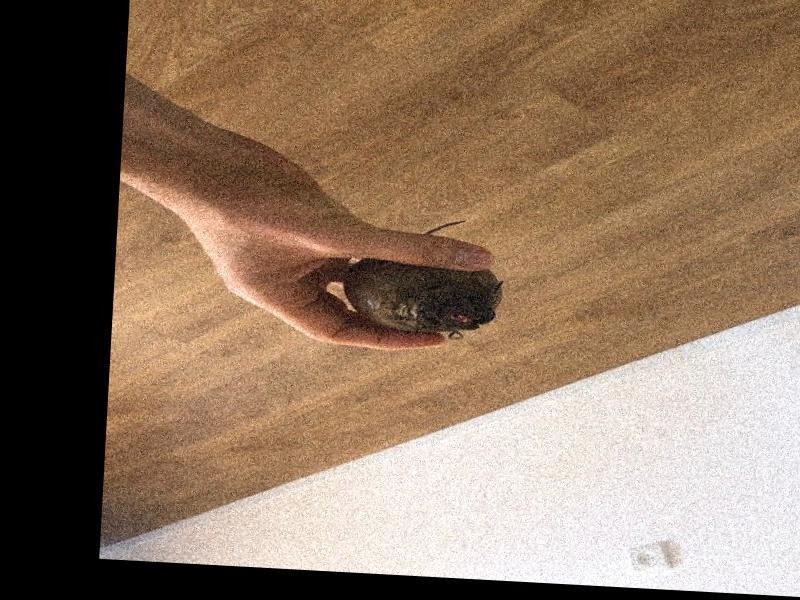Beet: (342, 214, 507, 339)
